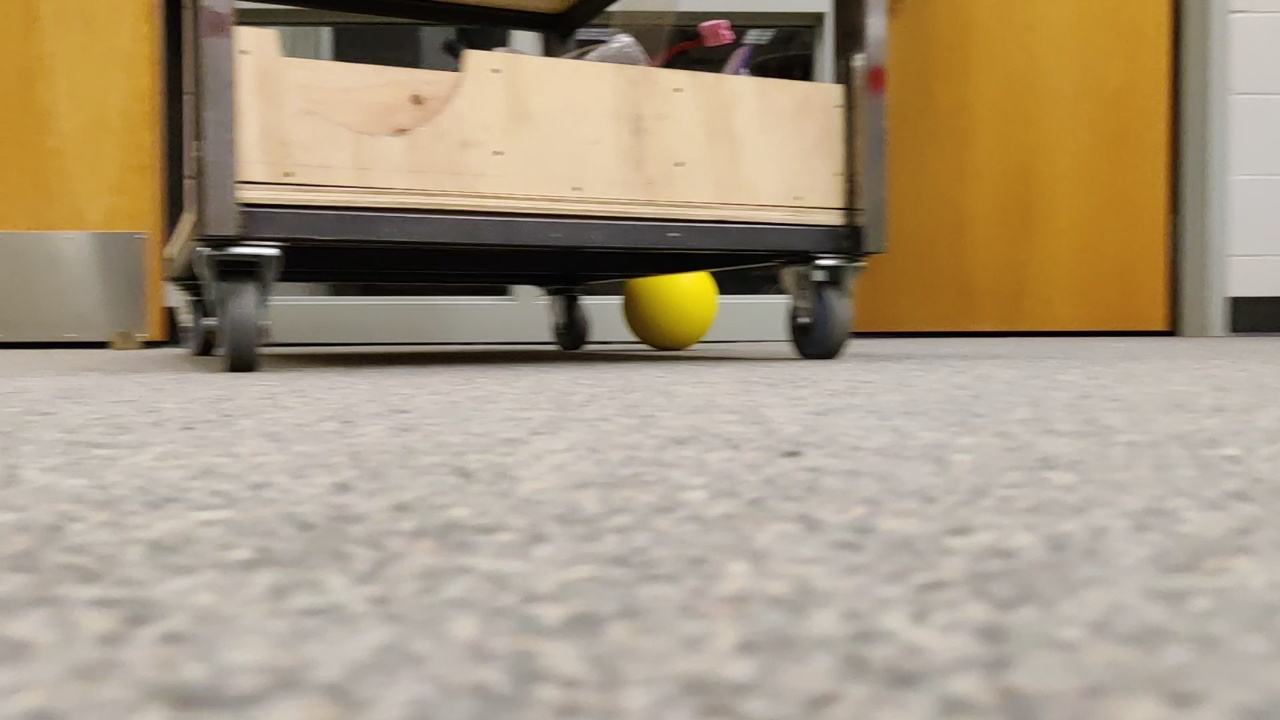Ball: (616, 267, 728, 363)
